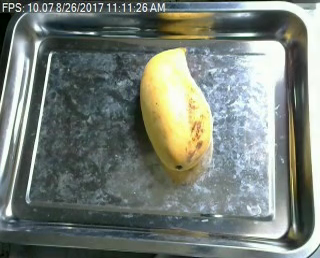Mango: (135, 43, 219, 174)
